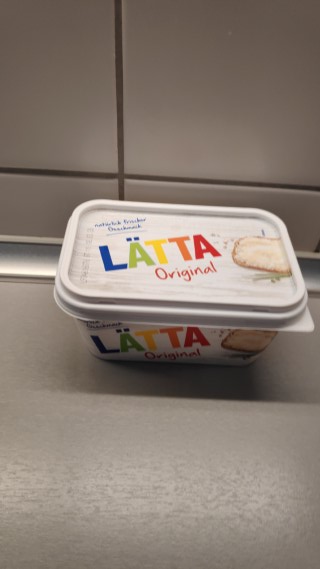laetta: (51, 198, 315, 368)
